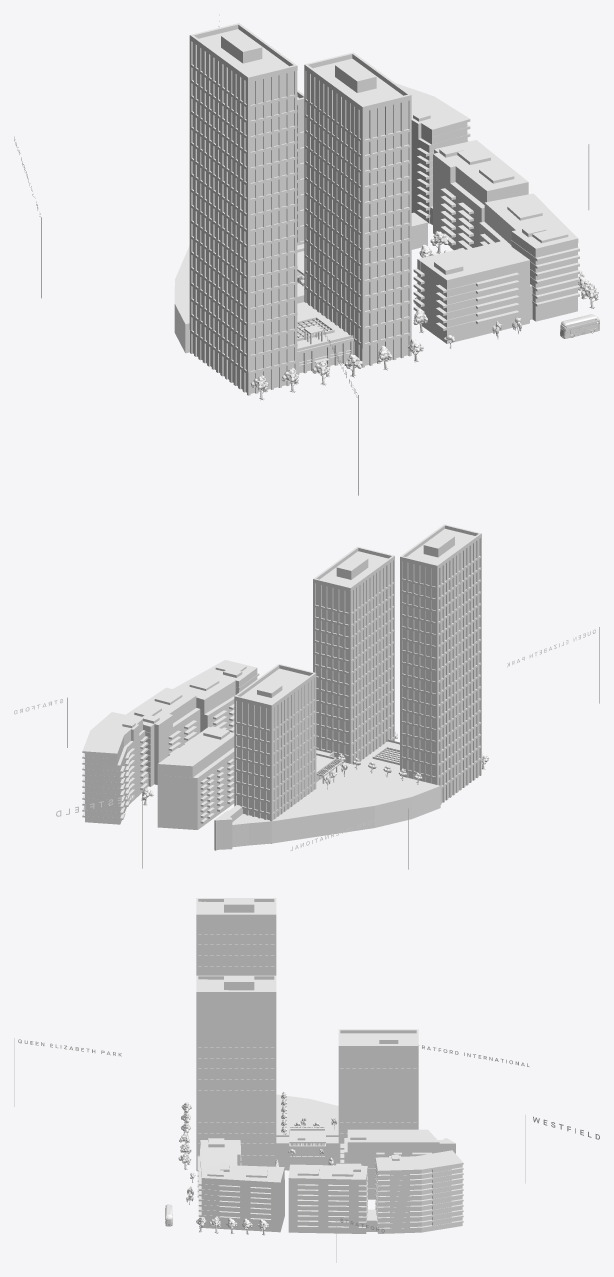
The model's file is CMS14.glb.
The picture shows the model from 3 angles, top to bottom: view 1: azimuth 30°, elevation 25°; view 2: azimuth 150°, elevation 25°; view 3: azimuth 270°, elevation 25°; orthographic projection. The views are drawn at different scales.
Visible parts, largest first — view 1: Xavier, Bussell, Hows, Sandhu, Base, Tree, Harrison, Bus; view 2: Xavier, Bussell, Harrison, Sandhu, Base, Aarons, Hows, Tree; view 3: Bussell, Sandhu, Harrison, Hows, Xavier, Base, Aarons, Tree.
Boxes of the visible parts, x1,y1,x2,y2 form: Xavier: (189, 23, 297, 395); Bussell: (304, 52, 411, 367); Hows: (413, 193, 579, 343); Sandhu: (396, 83, 528, 250); Base: (174, 244, 353, 374); Tree: (250, 231, 598, 400); Harrison: (297, 90, 304, 245); Bus: (560, 314, 599, 338); Xavier: (400, 524, 481, 804); Bussell: (313, 546, 394, 764); Harrison: (214, 664, 316, 850); Sandhu: (82, 687, 200, 824); Base: (272, 739, 440, 843); Aarons: (157, 726, 234, 829); Hows: (173, 660, 259, 732); Tree: (141, 732, 488, 805); Bussell: (196, 975, 276, 1170); Sandhu: (288, 1150, 463, 1233); Harrison: (338, 1029, 455, 1163); Hows: (197, 1138, 284, 1232); Xavier: (196, 898, 276, 975); Base: (276, 1094, 338, 1170); Aarons: (340, 1129, 439, 1199); Tree: (178, 1092, 337, 1235).
Bounding box in the file's own units: 222 × 129 × 307.
3 materials, 3 textured.
